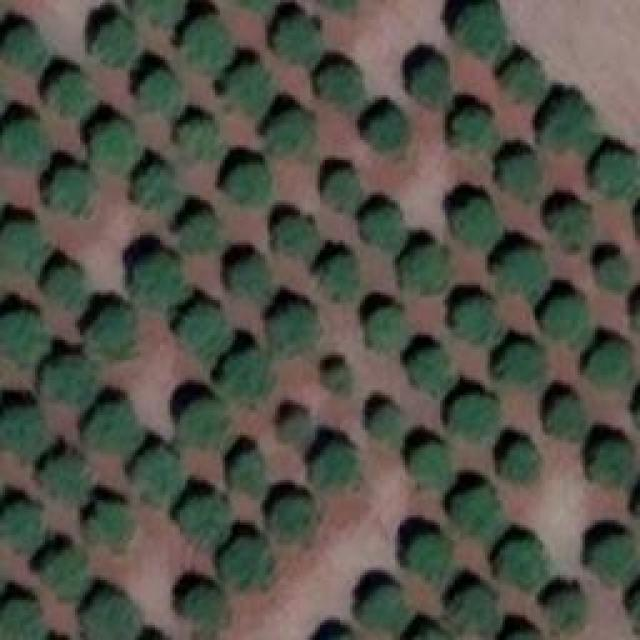Tree: (445, 575, 500, 638), (223, 528, 276, 593), (445, 0, 505, 55), (82, 405, 140, 460), (305, 428, 358, 488), (130, 447, 183, 505), (38, 158, 93, 213), (268, 5, 323, 60), (540, 190, 590, 250), (125, 240, 175, 298), (270, 100, 320, 158), (270, 292, 320, 350), (545, 90, 595, 148), (43, 540, 93, 598), (83, 305, 136, 358), (84, 587, 137, 640), (447, 102, 495, 160), (217, 342, 265, 400), (220, 58, 273, 110), (220, 150, 270, 205), (490, 50, 540, 105), (403, 240, 453, 295), (453, 180, 498, 240), (0, 118, 50, 171), (315, 245, 365, 298), (493, 235, 543, 288), (258, 492, 313, 540), (133, 155, 178, 213), (445, 280, 490, 338), (403, 48, 446, 108), (178, 290, 221, 350), (38, 453, 88, 503), (360, 303, 410, 353), (495, 535, 545, 585), (403, 338, 448, 393), (43, 355, 93, 403), (180, 400, 230, 448), (592, 148, 640, 198), (545, 385, 585, 445), (450, 483, 498, 533), (182, 493, 230, 543), (177, 583, 225, 633), (315, 55, 360, 108), (360, 195, 405, 248), (360, 98, 403, 153), (88, 498, 131, 551), (0, 220, 45, 270), (0, 400, 45, 450), (450, 393, 500, 438), (408, 533, 453, 583), (0, 300, 40, 355), (0, 500, 45, 548), (92, 20, 140, 65), (268, 210, 313, 258), (0, 595, 48, 640), (43, 70, 93, 113), (190, 15, 230, 68), (225, 250, 265, 303), (498, 340, 541, 388), (173, 205, 218, 250), (90, 118, 133, 163), (495, 148, 540, 191), (540, 297, 580, 345), (592, 440, 630, 490), (225, 440, 260, 493), (3, 25, 46, 68), (320, 160, 358, 208), (175, 110, 215, 155), (595, 533, 635, 578), (500, 435, 535, 483), (587, 338, 625, 381), (360, 585, 403, 623), (43, 263, 83, 303), (545, 588, 585, 628), (365, 395, 400, 438), (140, 63, 173, 108), (413, 443, 448, 483), (318, 353, 351, 393), (278, 402, 308, 440), (598, 255, 628, 288), (132, 0, 180, 18), (410, 622, 458, 640), (503, 625, 546, 640)
